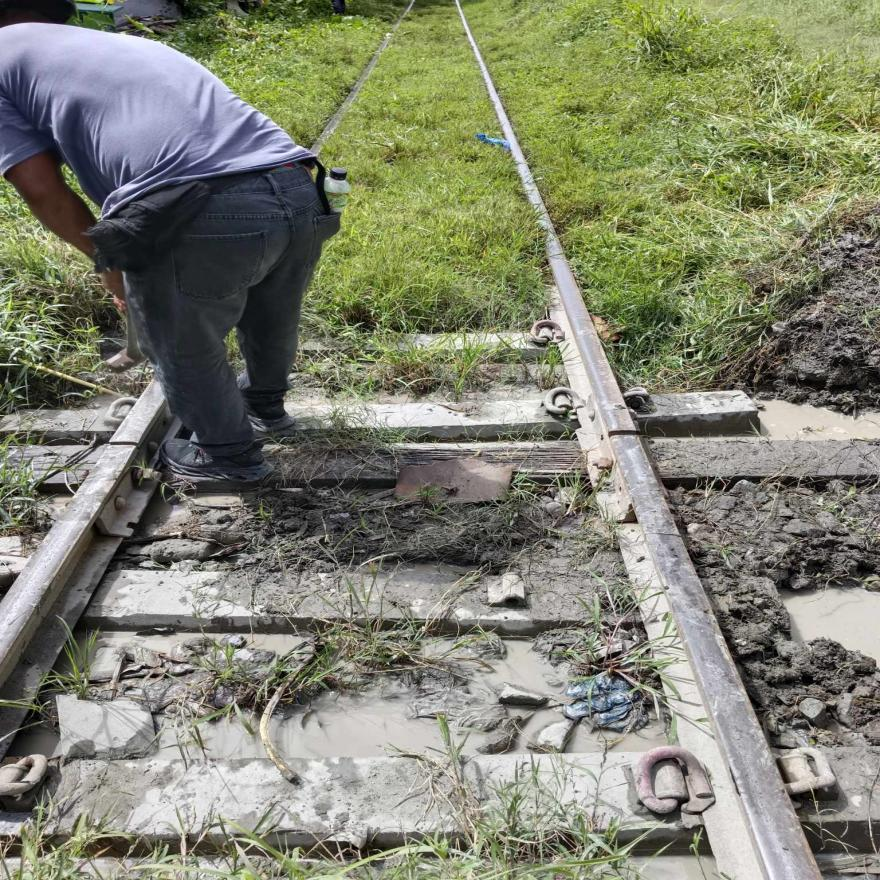railway-gap: (75, 408, 171, 478), (574, 402, 674, 463)
